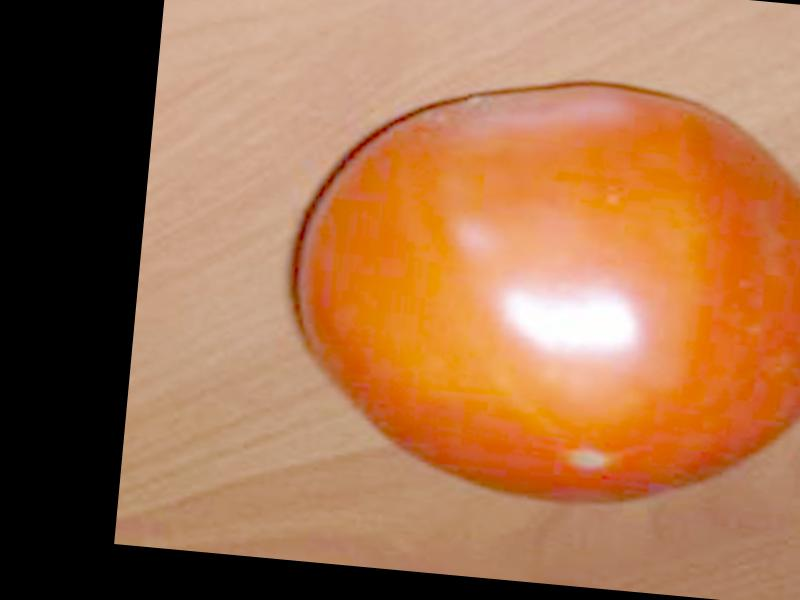Tomato: (271, 59, 800, 529)
